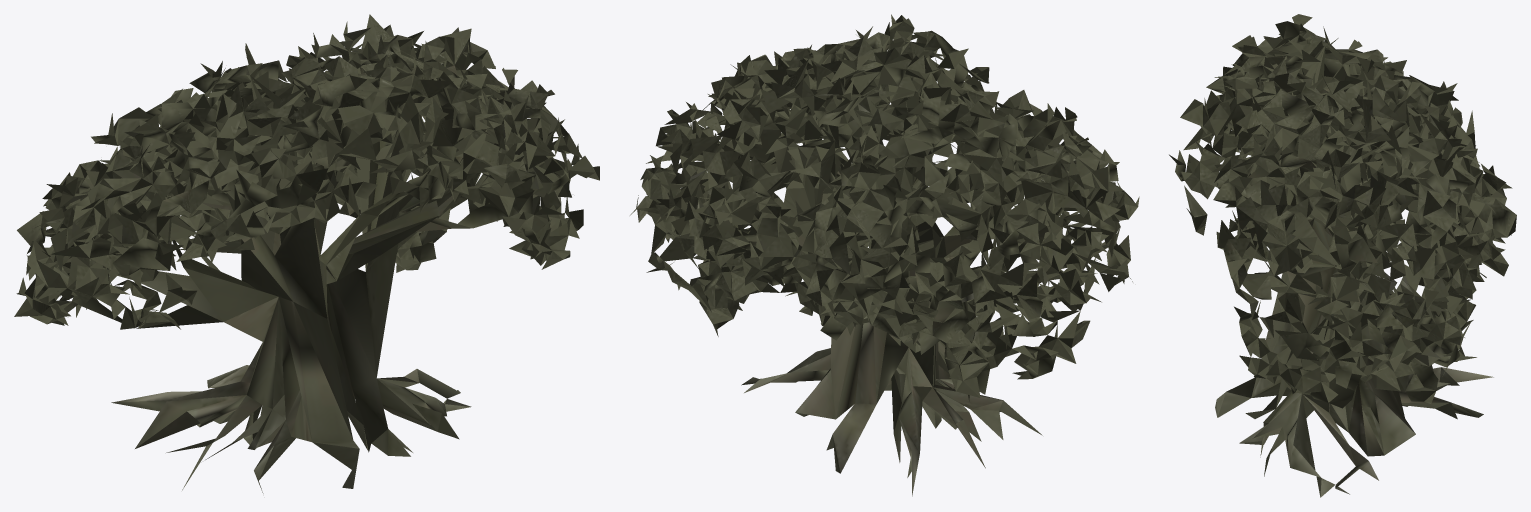
Rendered from pipal_tree.glb.
3 renders of one model, left to right at view 1: azimuth 30°, elevation 25°; view 2: azimuth 150°, elevation 25°; view 3: azimuth 270°, elevation 25°, orthographic. The views are drawn at different scales.
Parts seen in each view (by area): view 1: pipal_tree; view 2: pipal_tree; view 3: pipal_tree.
Boxes of the visible parts, x1,y1,x2,y2 form: pipal_tree: (14, 14, 599, 493); pipal_tree: (630, 14, 1139, 496); pipal_tree: (1169, 14, 1516, 497).
Bounding box in the file's own units: 13 × 9.07 × 7.61.
Materials: 1 (1 with a texture image).
